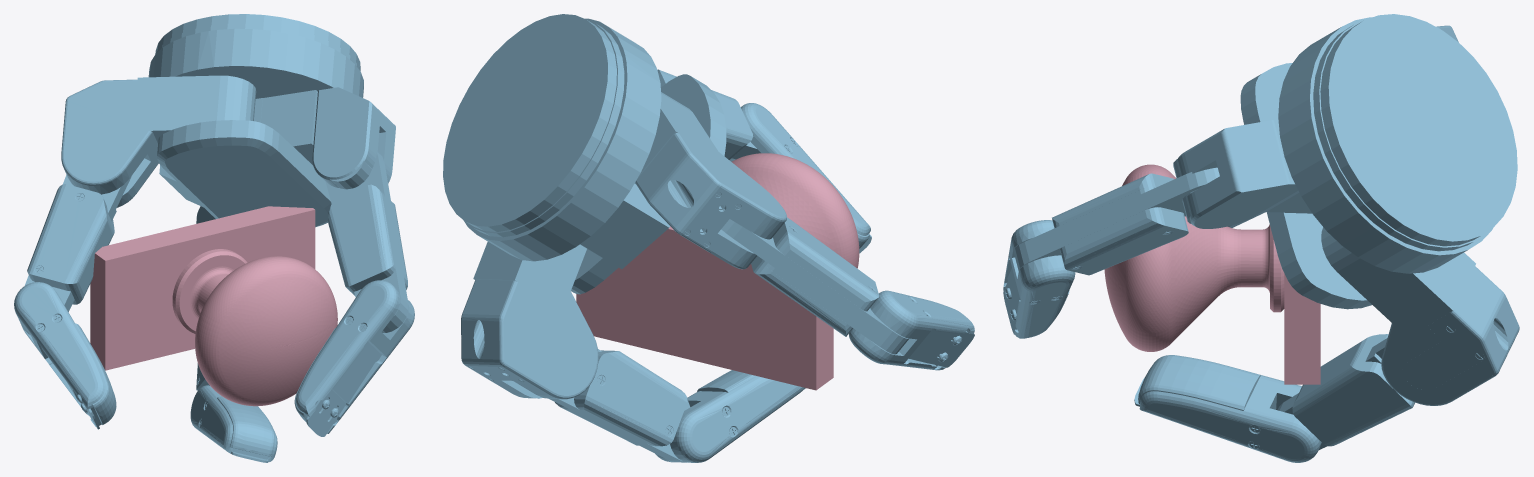
3 renders of one model, left to right at view 1: azimuth 30°, elevation 25°; view 2: azimuth 150°, elevation 25°; view 3: azimuth 270°, elevation 25°, orthographic. The views are drawn at different scales.
Parts seen in each view (by area): view 1: world, door_knob.stl; view 2: world, door_knob.stl; view 3: world, door_knob.stl.
Part boxes in pixels (box(x1,y1,x2,y2)): world: box(14, 14, 414, 462); door_knob.stl: box(90, 206, 337, 406); world: box(443, 14, 974, 462); door_knob.stl: box(576, 153, 859, 390); world: box(1003, 14, 1519, 462); door_knob.stl: box(1104, 164, 1320, 384).
Size of the model in its own units: 0.1769 by 0.178 by 0.179.
